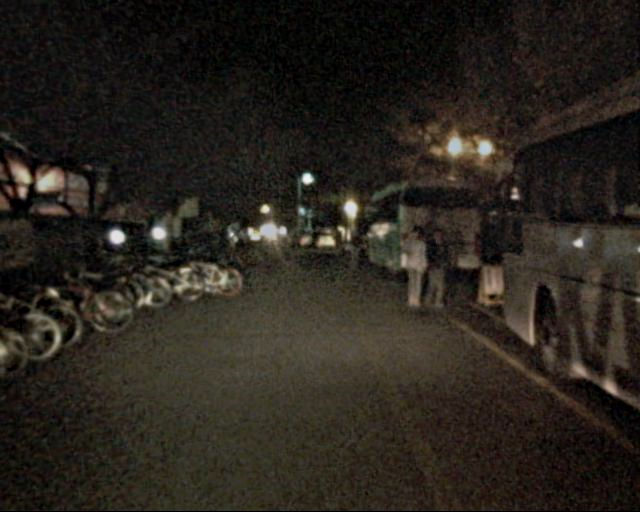person: (418, 225, 452, 309), (394, 229, 428, 312), (343, 223, 364, 275)
